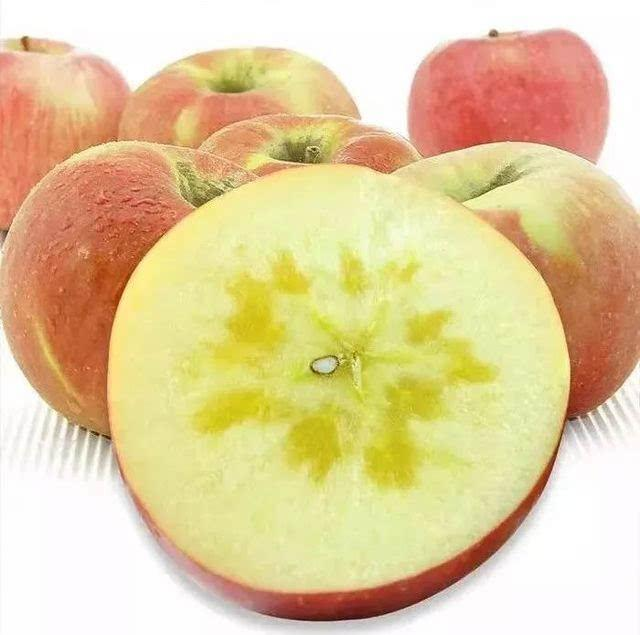apple: (405, 29, 613, 165), (1, 39, 128, 237)
